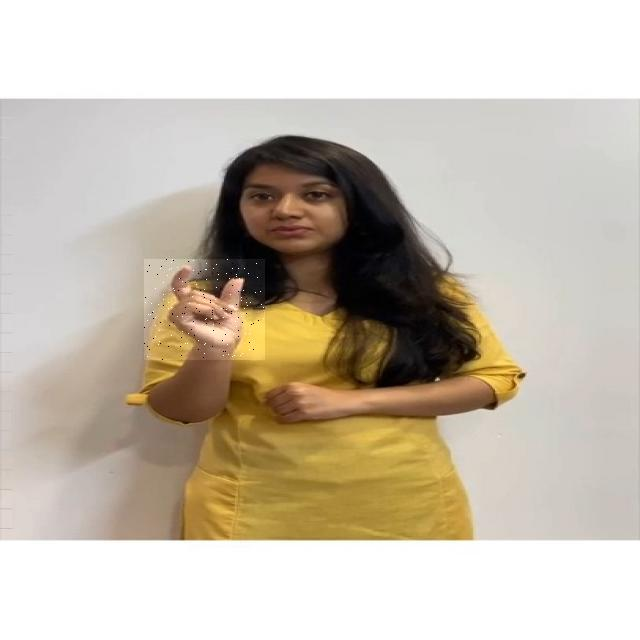U: (144, 259, 265, 360)
